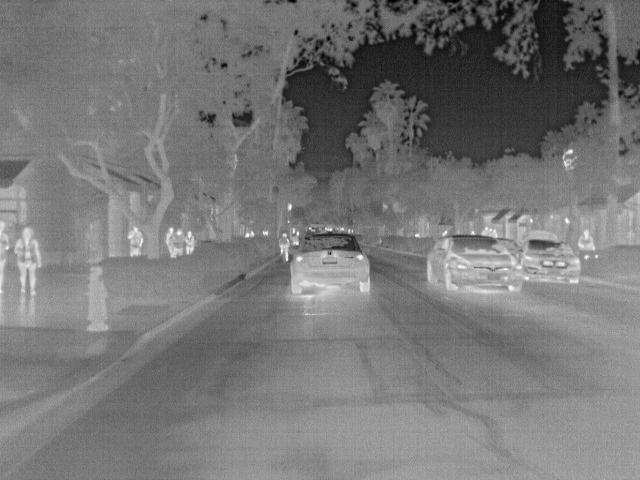car: (426, 236, 522, 292), (290, 234, 372, 298), (517, 239, 584, 287)
person: (15, 227, 45, 297), (1, 220, 14, 296), (576, 228, 596, 252), (127, 229, 144, 254), (277, 232, 290, 262), (183, 230, 195, 255), (163, 228, 177, 248)
